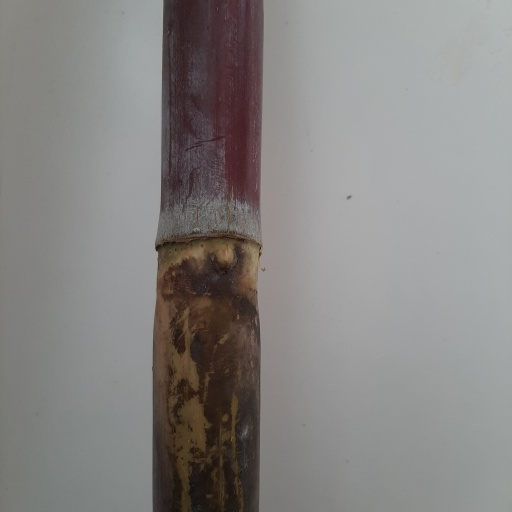Bud: (212, 242, 236, 270)
